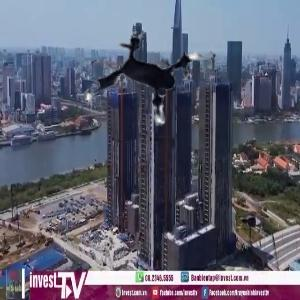drone: (76, 15, 221, 160)
